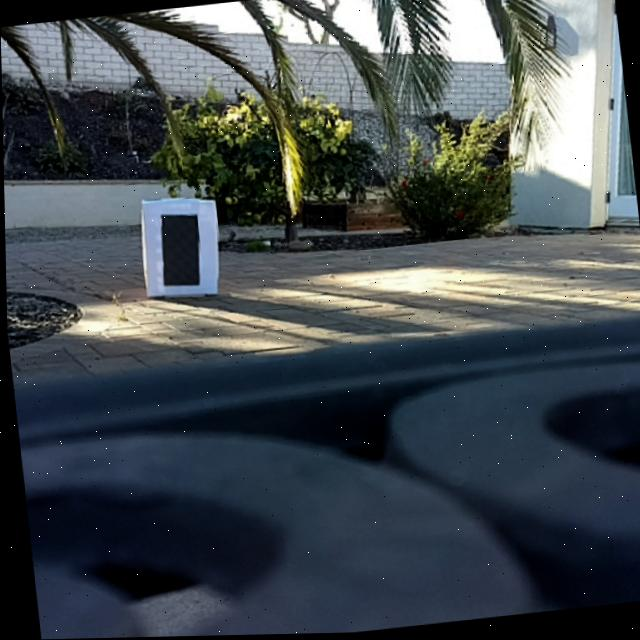led: (156, 214, 203, 288)
